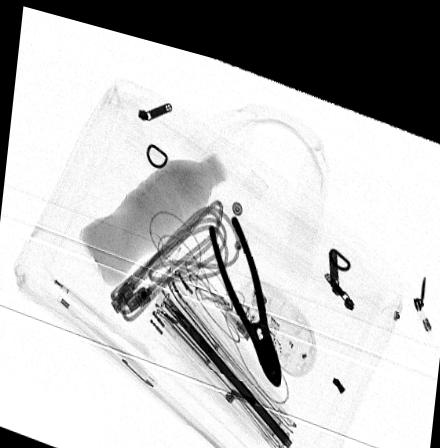Pliers: (207, 199, 283, 373)
